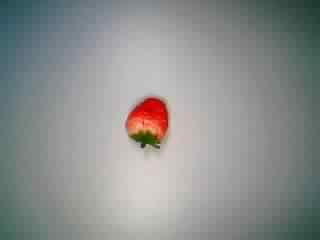strawberry: (114, 95, 182, 159)
